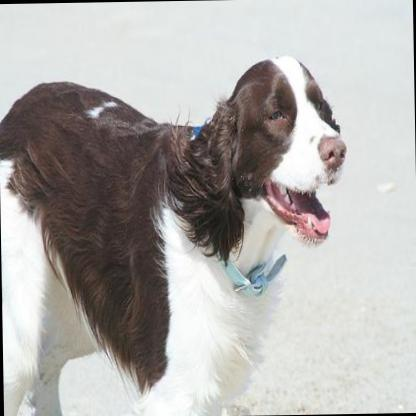English_springer: (0, 50, 351, 416)
